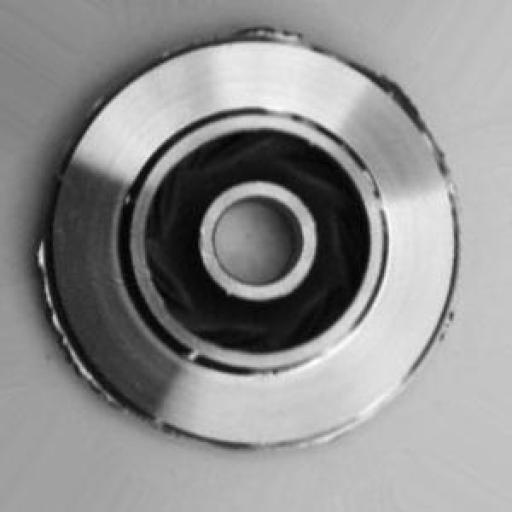defect: (24, 23, 473, 452)
